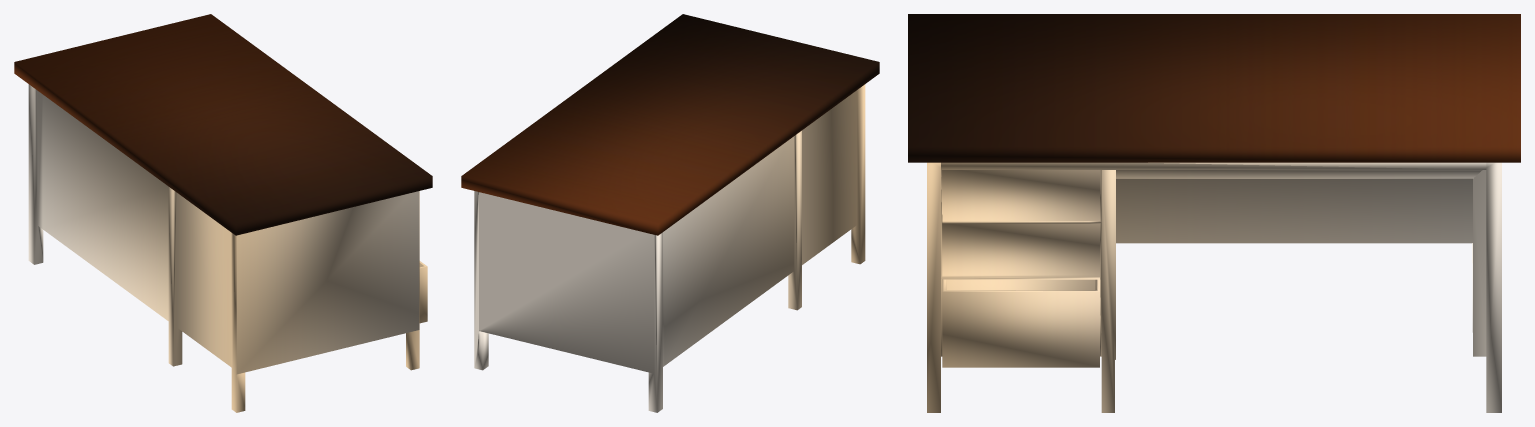
File: Escritorio.fbx
3 views of the same model, side by side, from view 1: azimuth 30°, elevation 25°; view 2: azimuth 150°, elevation 25°; view 3: azimuth 270°, elevation 25° (orthographic). The views are drawn at different scales.
Visible parts, largest first — view 1: escritorio; view 2: escritorio; view 3: escritorio.
Part boxes in pixels (x1,y1,x2,y2): escritorio: (14,14,432,412); escritorio: (461,14,879,412); escritorio: (908,14,1520,412).
Bounding box in the file's own units: 468 × 429 × 880.
Materials: 1 (1 with a texture image).
